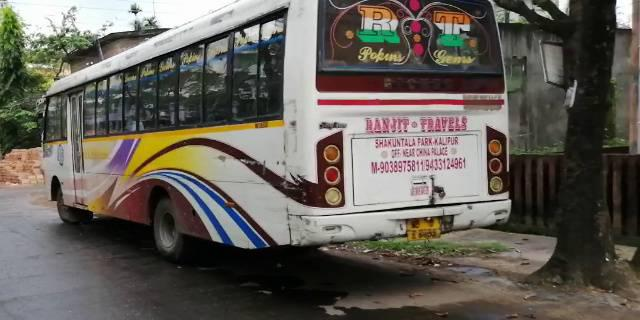Bus: (36, 14, 520, 262)
